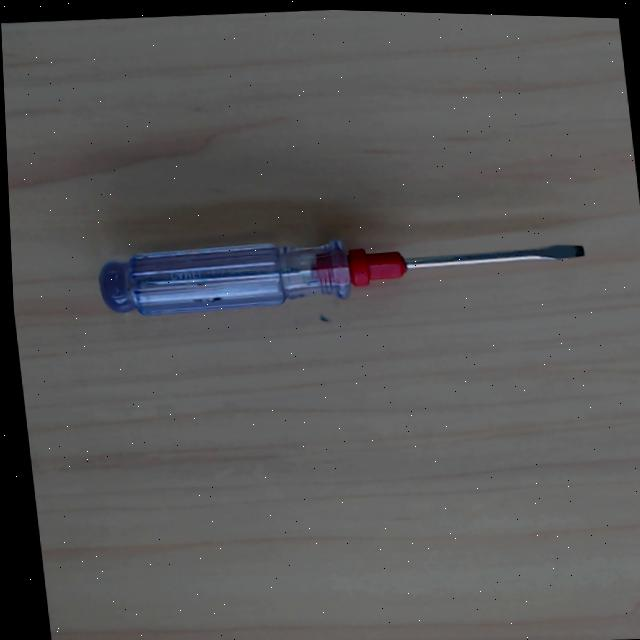Obeng-Kecil: (96, 216, 585, 318)
